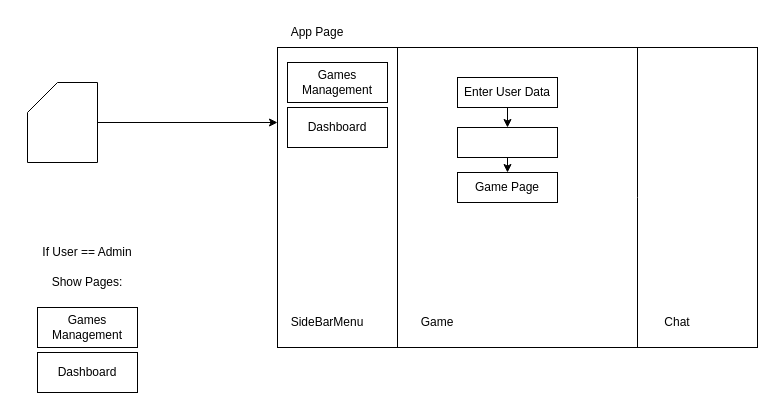
This 775x410 diagram has some shape labels left out. The centre of each missing label's shape, as x and y in pixels:
Auth Page: point 62,122
Search/Join Game Room: point 507,142
